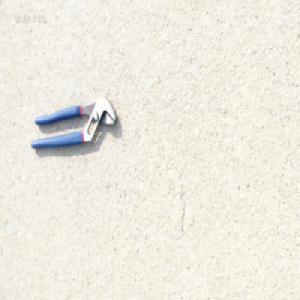Pliers: (29, 96, 117, 151)
